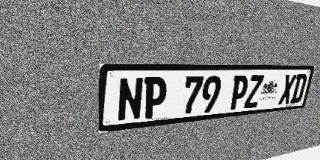7: (180, 76, 204, 115)
9: (199, 76, 222, 113)
D: (290, 74, 308, 104)
N: (117, 77, 144, 122)
P: (142, 77, 168, 119), (228, 75, 250, 110)
X: (278, 74, 297, 105)
Z: (243, 75, 264, 108)
